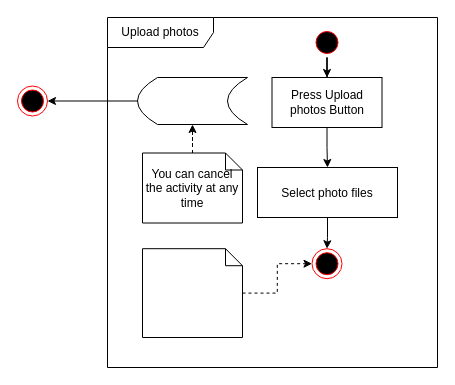
Some shapes in this 455 by 385 pixel diagram are drawn without their labels. Each missing label, with the centre of its shape:
"Cancel" goes at [192,100].
"Photos are saved/uploaded in the gallery" goes at [192,293].
